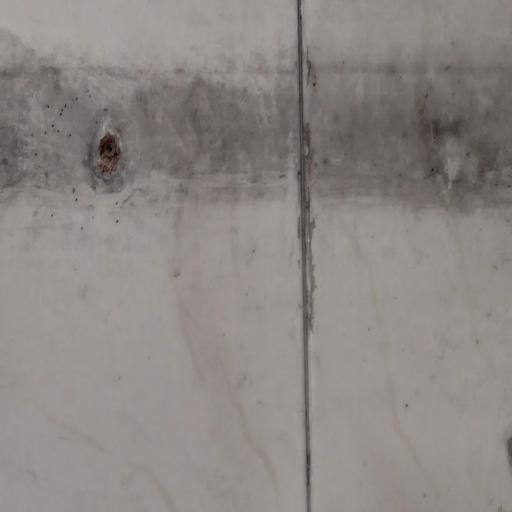stain: (5, 21, 512, 232), (284, 0, 331, 511)
